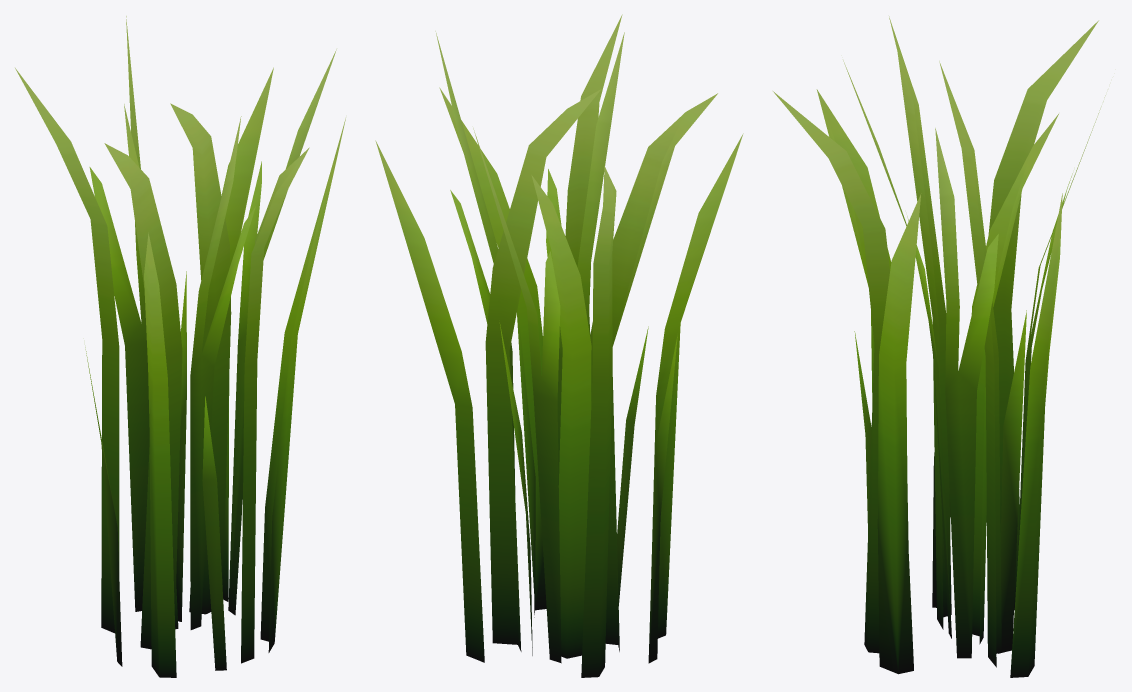
Rendered from Grass_Common_Tall.glb.
3 renders of one model, left to right at view 1: azimuth 30°, elevation 25°; view 2: azimuth 150°, elevation 25°; view 3: azimuth 270°, elevation 25°, orthographic. The views are drawn at different scales.
Visible parts, largest first — view 1: Grass_Common_Tall; view 2: Grass_Common_Tall; view 3: Grass_Common_Tall.
Boxes of the visible parts, x1=… form: Grass_Common_Tall: x1=15, y1=16, x2=345, y2=677; Grass_Common_Tall: x1=375, y1=14, x2=743, y2=677; Grass_Common_Tall: x1=773, y1=16, x2=1105, y2=677.
Bounding box in the file's own units: 0.8951 × 1.87 × 0.9932.
1 material, 1 textured.
